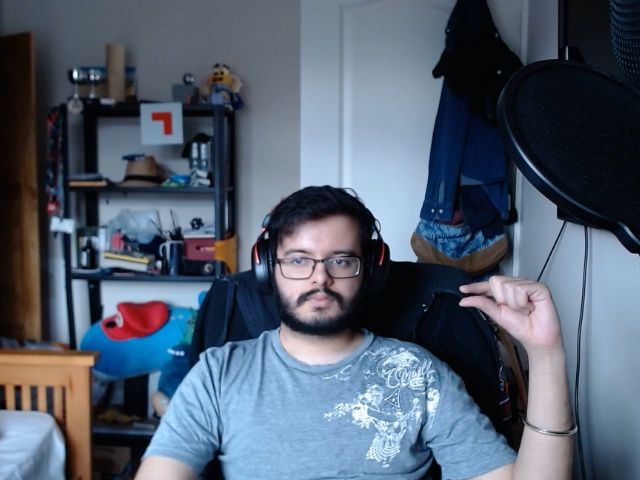Small: (452, 260, 575, 354)
